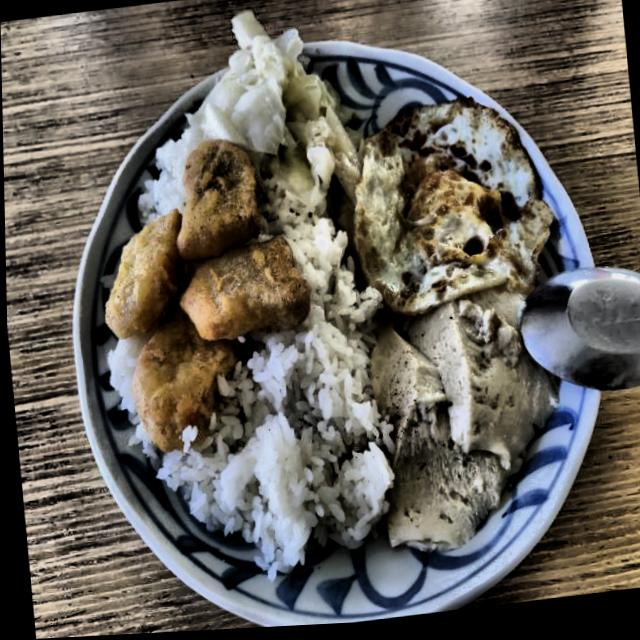Food: (89, 135, 320, 460), (346, 94, 558, 323), (213, 325, 401, 571), (201, 11, 360, 178)
